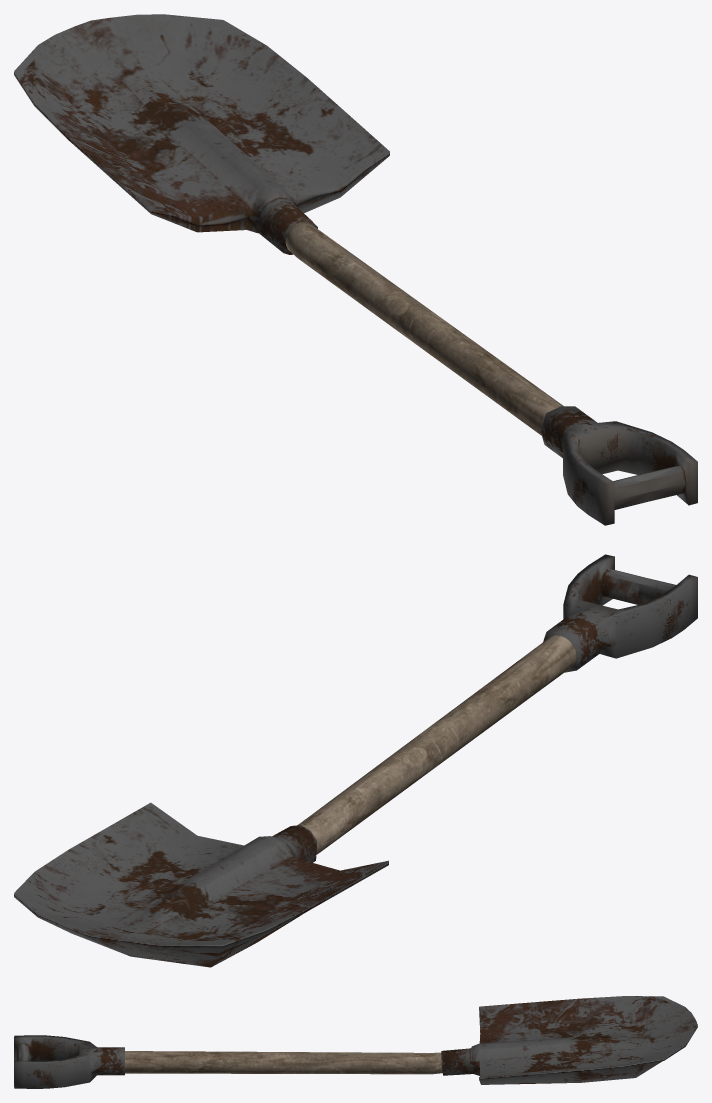
The model's file is shovel.fbx.
The picture shows the model from 3 angles, top to bottom: view 1: azimuth 30°, elevation 25°; view 2: azimuth 150°, elevation 25°; view 3: azimuth 270°, elevation 25°; orthographic projection. The views are drawn at different scales.
Parts seen in each view (by area): view 1: Shovel; view 2: Shovel; view 3: Shovel.
Part boxes in pixels (left/top/right/bottom): Shovel: left=14, top=14, right=697, bottom=525; Shovel: left=14, top=554, right=697, bottom=967; Shovel: left=14, top=996, right=697, bottom=1088.
Bounding box in the file's own units: 100 × 33.03 × 408.
1 material, 1 textured.
